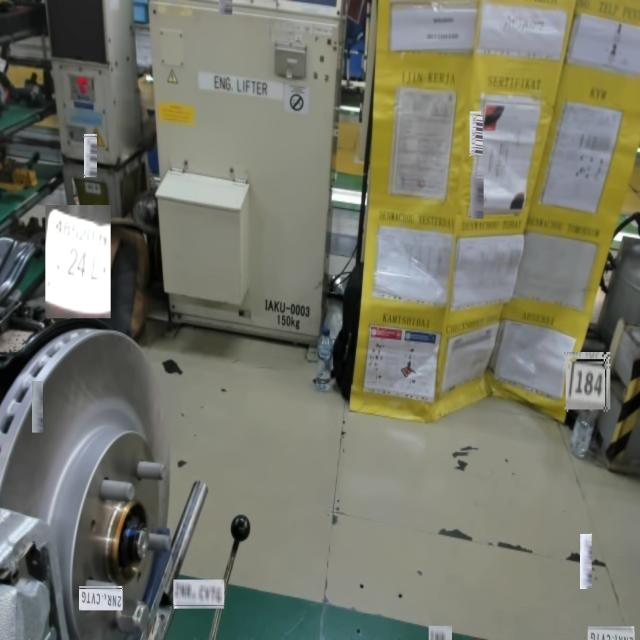Absorber LH-24: (59, 234, 102, 294)
Disc-SV: (41, 404, 162, 640)
Engine Assy-184: (573, 366, 606, 402)
